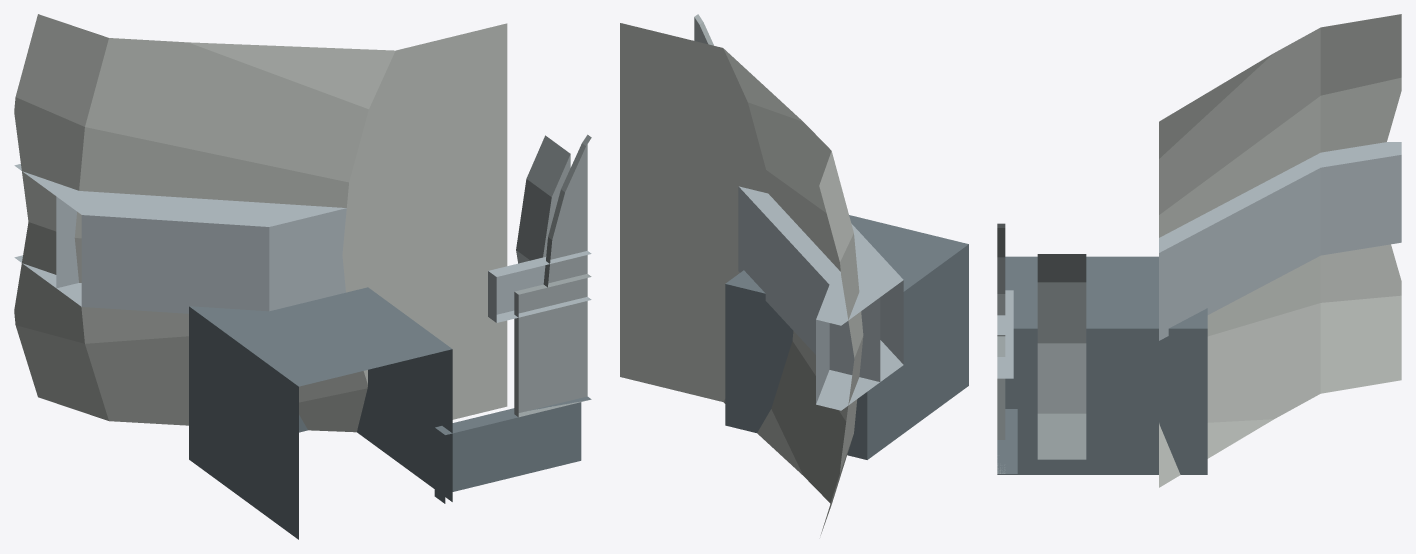
Rendered from cell_126.obj.
3 renders of one model, left to right at view 1: azimuth 30°, elevation 25°; view 2: azimuth 150°, elevation 25°; view 3: azimuth 270°, elevation 25°, orthographic. The views are drawn at different scales.
Size of the model in its own units: 1 by 1 by 1.
